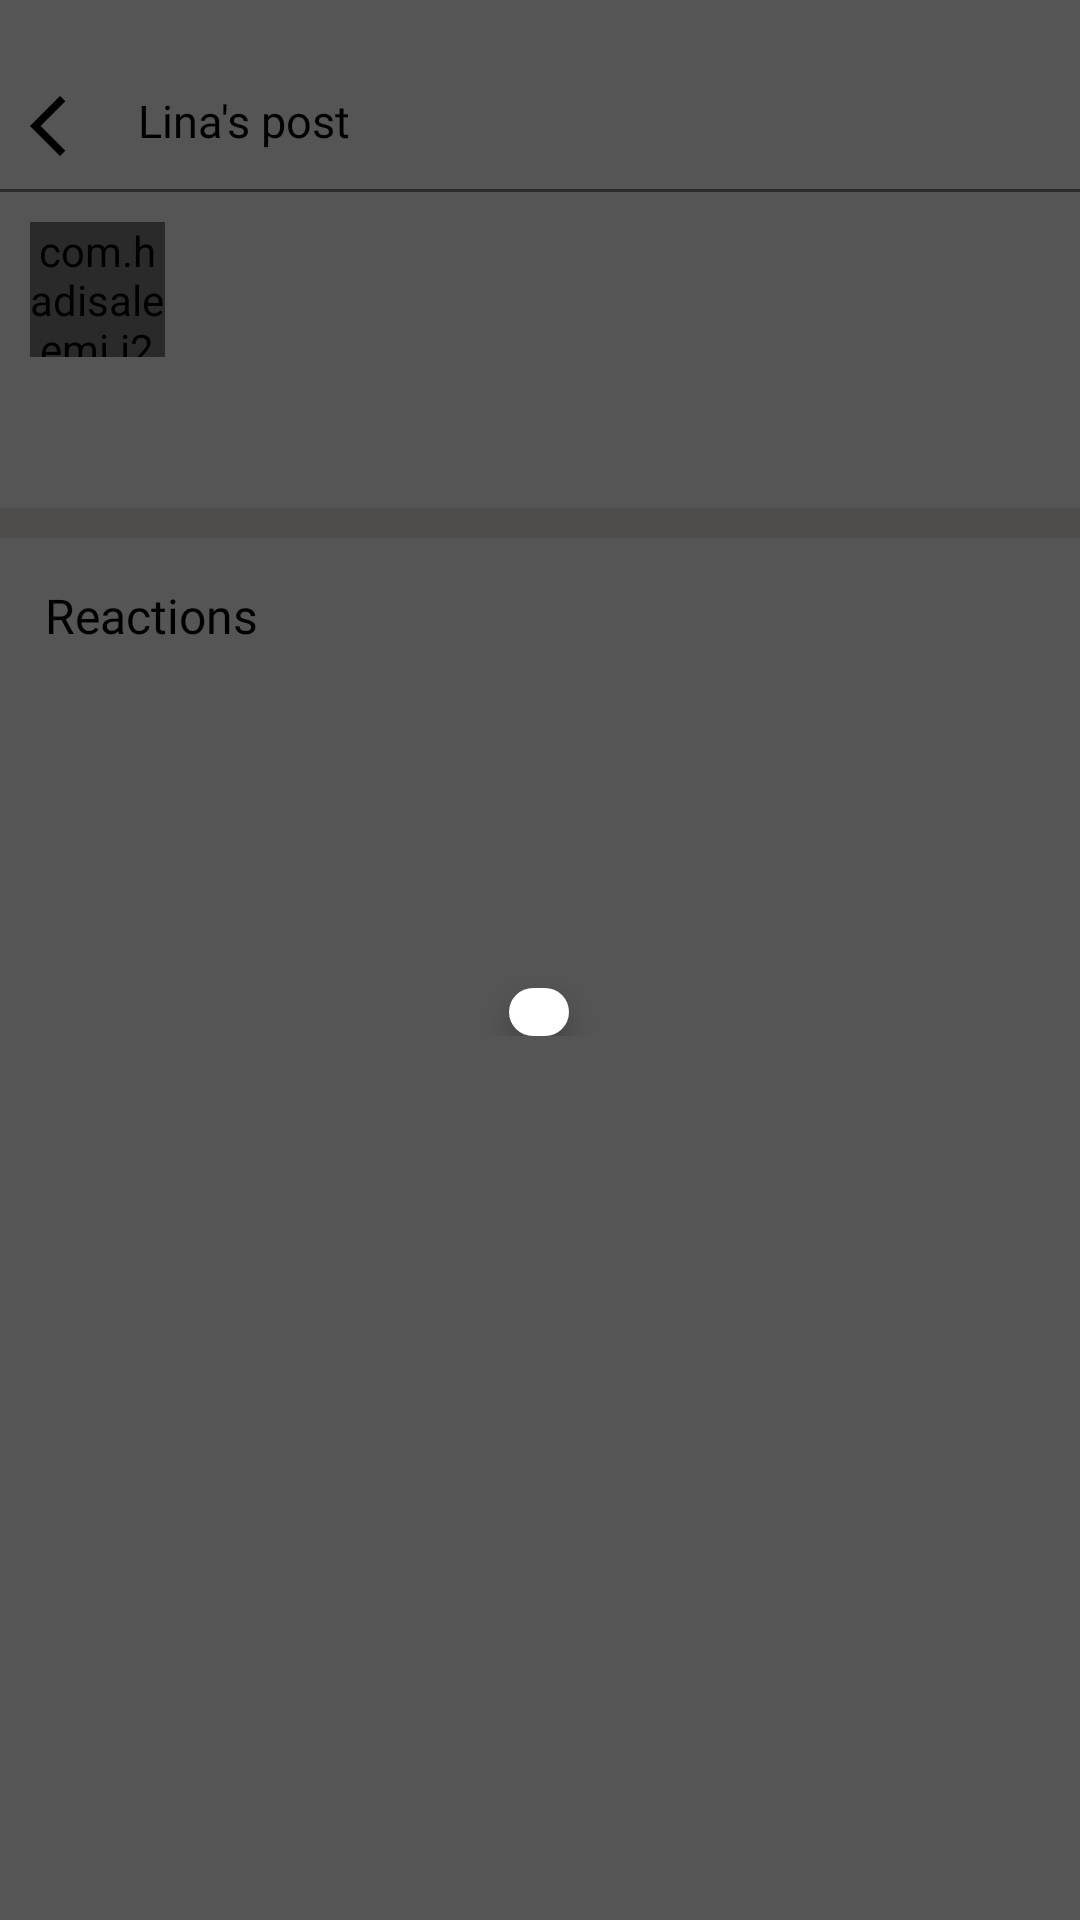

Icon bounding boxes for this 1080 × 1920 phone screenshot, format (x1, y1, x2, y2):
Back Arrow: (30, 96, 65, 156)
